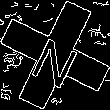N_NE: (26, 23, 84, 87)
